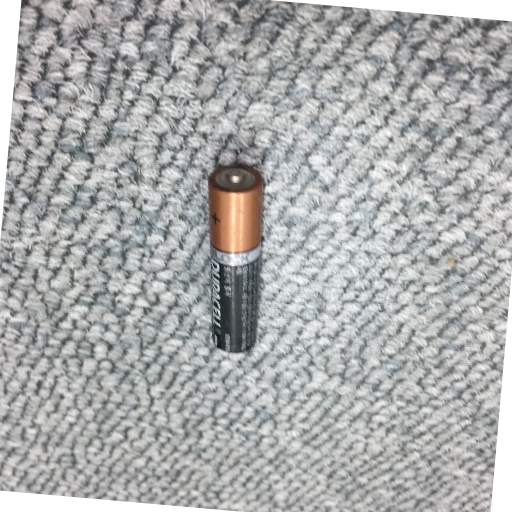Battery_0: (202, 154, 276, 358)
